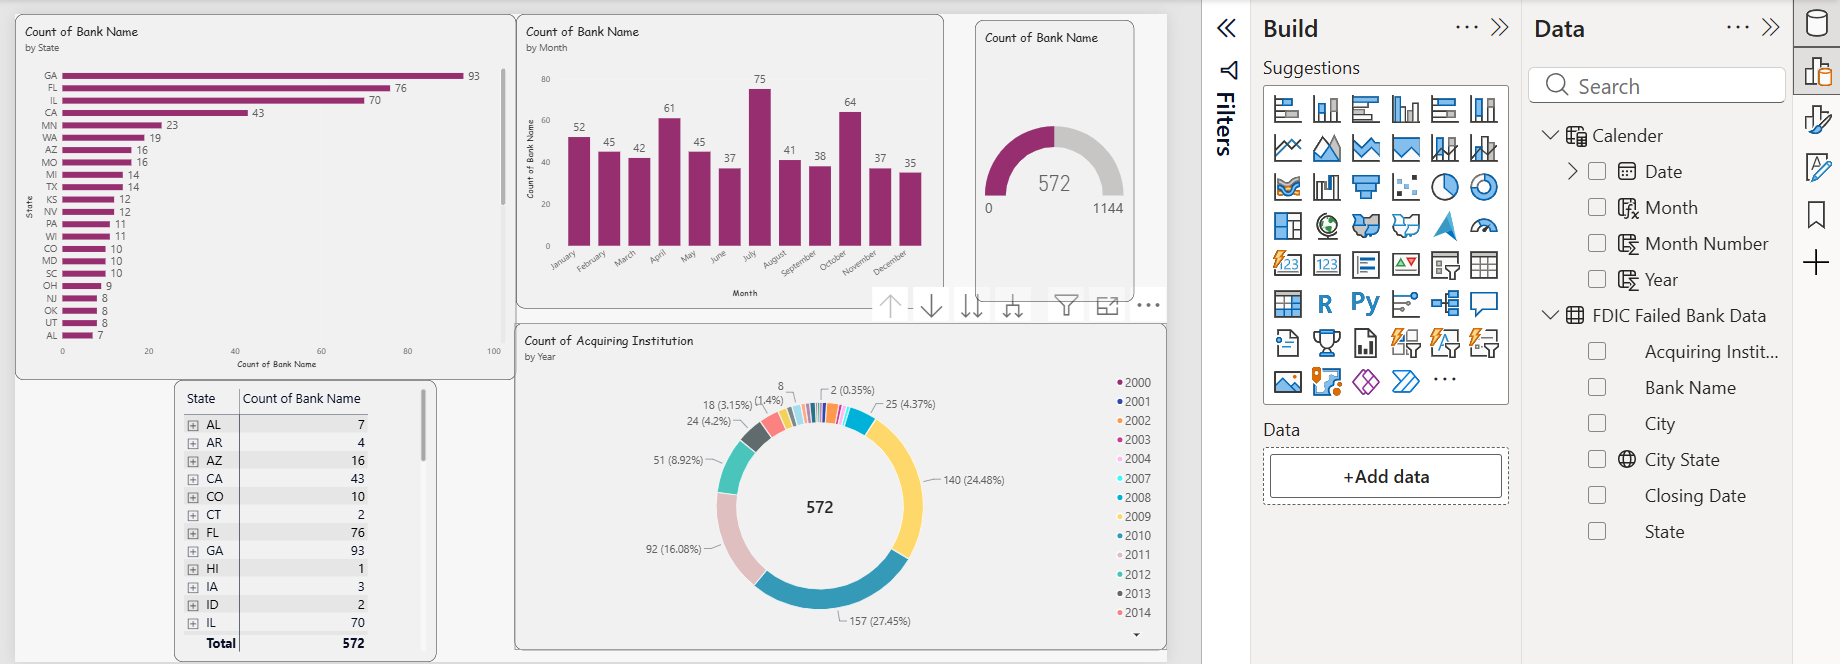

The dashboard page shown, as its layout file describes it:
{"tool":"powerbi","page":{"name":"overview","canvas":[1920,1080],"ordinal":0},"visuals":[{"type":"barChart","fields":{"Category":["FDIC Failed Bank Data.State "],"Y":["CountNonNull(FDIC Failed Bank Data.Bank Name )"]},"box":[0,0,835,610],"z":0},{"type":"columnChart","fields":{"Category":["Calender.Month"],"Y":["CountNonNull(FDIC Failed Bank Data.Bank Name )"]},"box":[835,0,713.6,490.9],"z":1000},{"type":"pivotTable","fields":{"Rows":["FDIC Failed Bank Data.State ","FDIC Failed Bank Data.City "],"Values":["CountNonNull(FDIC Failed Bank Data.Bank Name )"]},"box":[265,610,437.5,470],"z":2000},{"type":"donutChart","fields":{"Category":["Calender.Date.Variation.Date Hierarchy.Year","Calender.Date.Variation.Date Hierarchy.Quarter","Calender.Date.Variation.Date Hierarchy.Month","Calender.Date.Variation.Date Hierarchy.Day"],"Y":["CountNonNull(FDIC Failed Bank Data.Acquiring Institution )"]},"box":[832.5,515,1087.5,545],"z":3000},{"type":"gauge","fields":{"Y":["CountNonNull(FDIC Failed Bank Data.Bank Name )"]},"box":[1600,10,265,470],"z":4000}]}

Visuals, with their boxes on the page's 1920x1080 design canvas (x1, y1, x2, y2). These are canvas units, not pixel positions in the 1840x664 screenshot, which may show the page scaled, cropped or inside an application window:
barChart - FDIC Failed Bank Data.State  x CountNonNull(FDIC Failed Bank Data.Bank Name ): (0,0,835,610)
columnChart - Calender.Month x CountNonNull(FDIC Failed Bank Data.Bank Name ): (835,0,1549,491)
pivotTable - FDIC Failed Bank Data.State  x FDIC Failed Bank Data.City : (265,610,702,1080)
donutChart - Calender.Date.Variation.Date Hierarchy.Year x Calender.Date.Variation.Date Hierarchy.Quarter: (832,515,1920,1060)
gauge - CountNonNull(FDIC Failed Bank Data.Bank Name ): (1600,10,1865,480)
